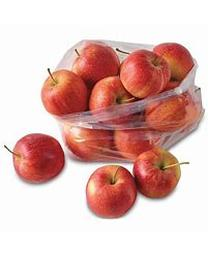apple: (85, 165, 136, 220), (13, 133, 65, 183), (119, 50, 172, 99), (144, 90, 200, 136), (89, 77, 139, 127), (133, 149, 182, 200), (62, 114, 113, 162), (73, 42, 120, 90), (41, 70, 88, 116), (153, 43, 195, 93), (113, 118, 160, 161)
